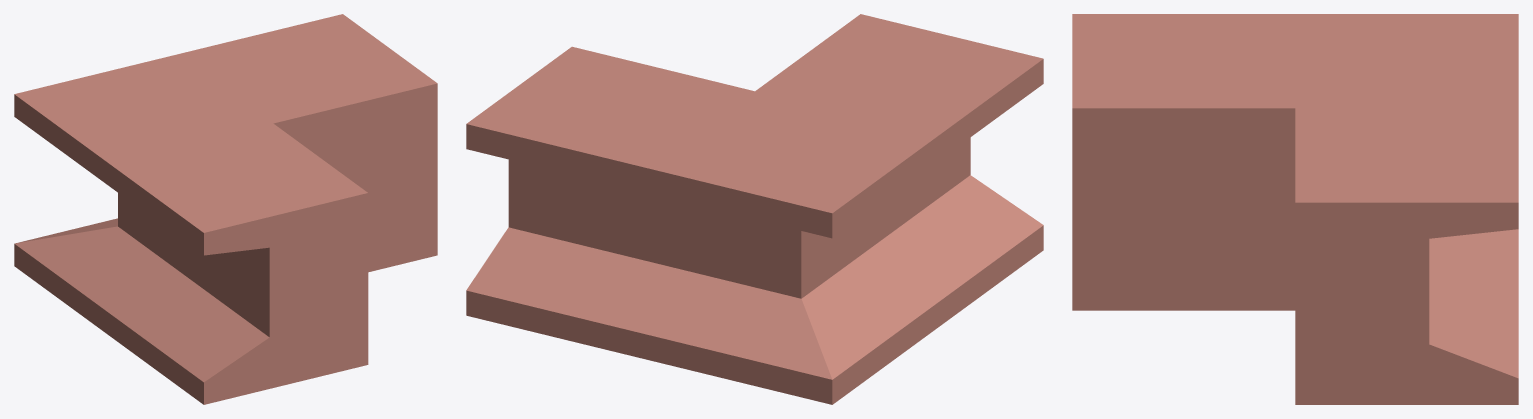
The model's file is TrimBasicWall1x5CornerHard.fbx.
3 views of the same model, side by side, from view 1: azimuth 30°, elevation 25°; view 2: azimuth 150°, elevation 25°; view 3: azimuth 270°, elevation 25° (orthographic). The views are drawn at different scales.
Parts seen in each view (by area): view 1: TrimBasicWall1x5CornerHard.001; view 2: TrimBasicWall1x5CornerHard.001; view 3: TrimBasicWall1x5CornerHard.001.
Boxes of the visible parts, left/top/right/bottom form: TrimBasicWall1x5CornerHard.001: left=14, top=14, right=437, bottom=404; TrimBasicWall1x5CornerHard.001: left=466, top=14, right=1043, bottom=404; TrimBasicWall1x5CornerHard.001: left=1072, top=14, right=1518, bottom=404.
Size of the model in its own units: 200 by 100 by 200.
